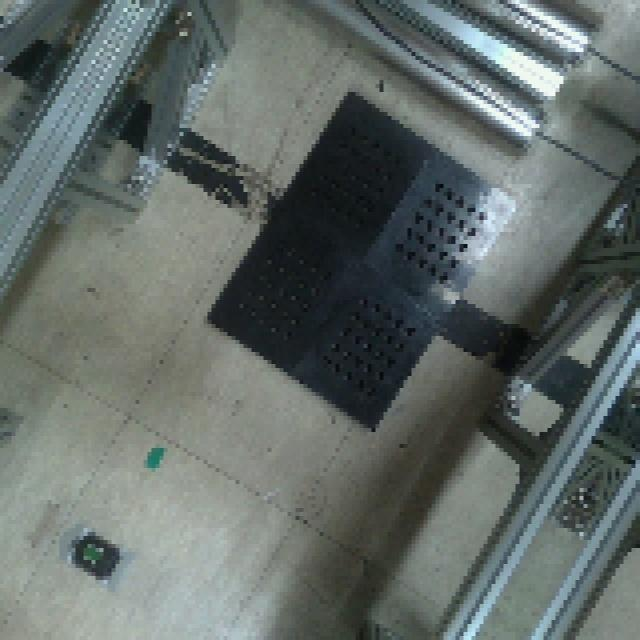pallet: (194, 83, 528, 443)
